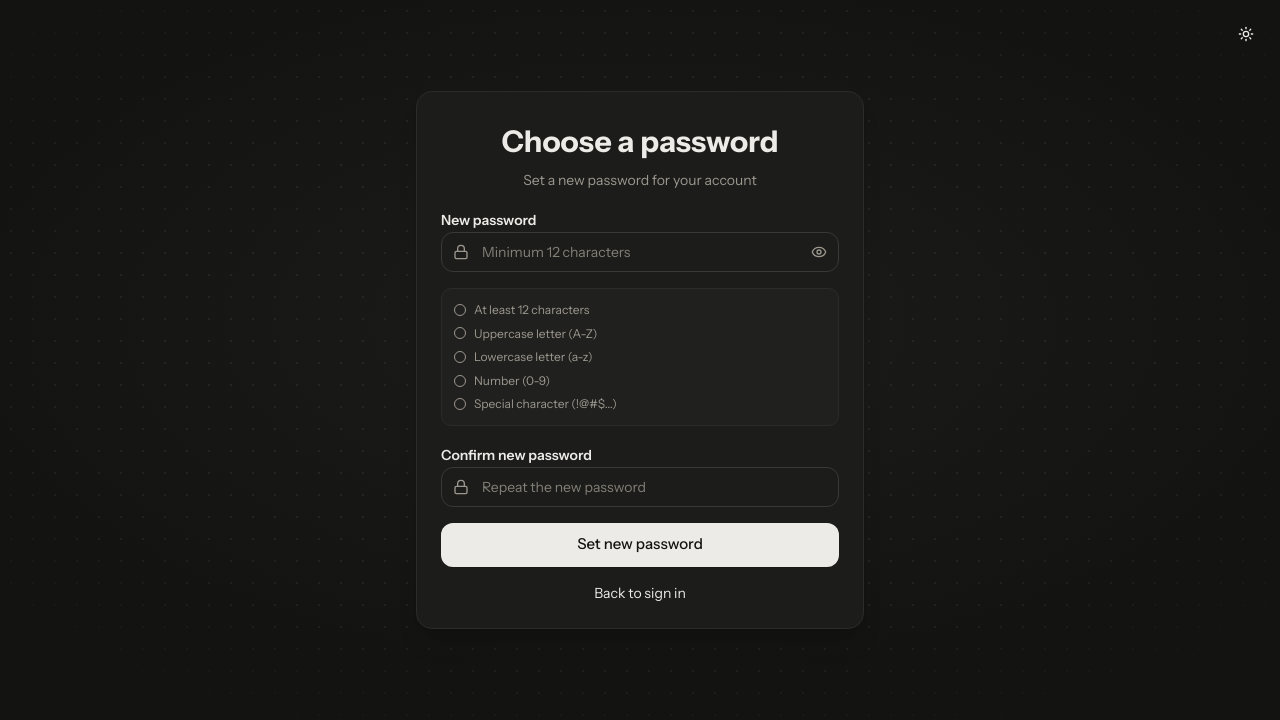
Scenario: ResetPasswordPage › refuses a password that misses a rule
The width and height of the screenshot is (1280, 720).
In the password field labelled "New password": (640, 252) [441,232,839,272], type "short"
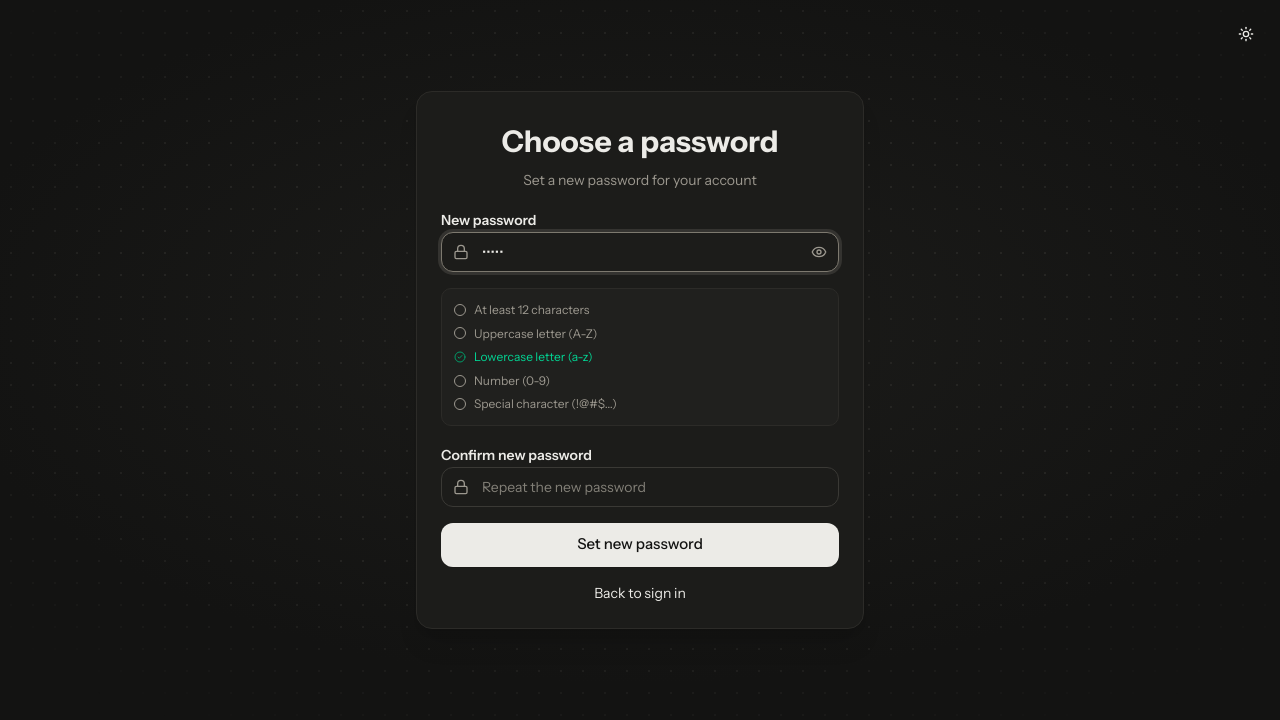
In the password field labelled "Confirm new password": (640, 487) [441,467,839,507], type "short"
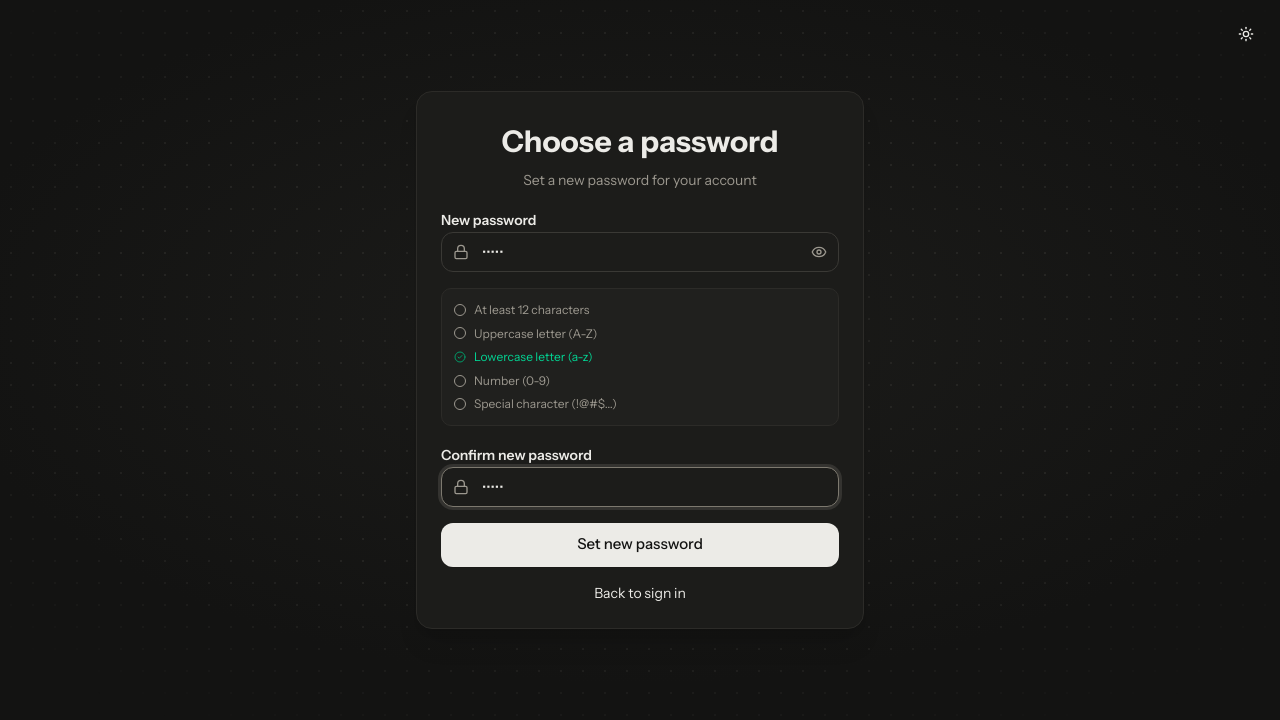
Click the button "Set new password": (640, 545) [441,523,839,567]
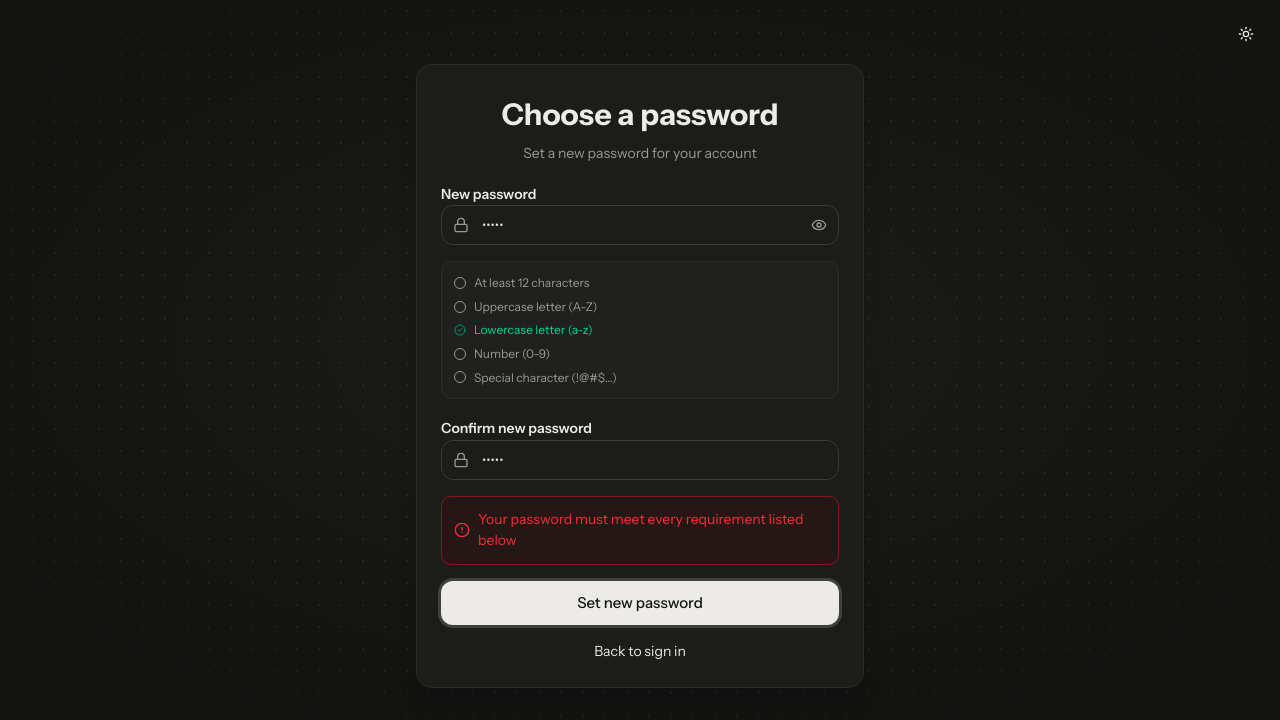
Now the text "Your password must meet every requirement listed below" is shown, box [478,509,826,552]
